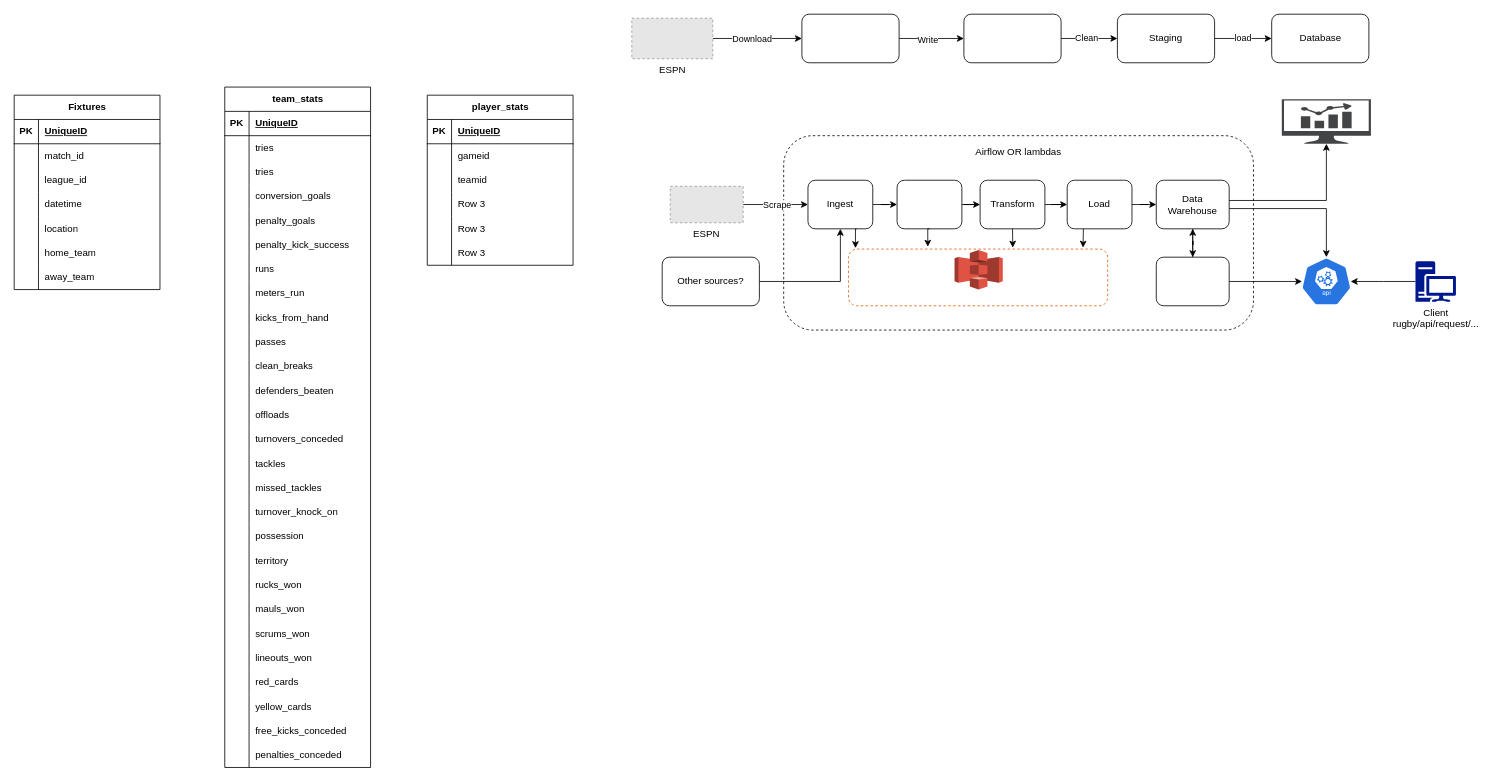
Some shapes in this 1493 by 782 pixel diagram are drawn without their labels. Grey dashed boxes stand in for pictures. Each missing label, with the centre of its shape:
"Dashboard" goes at point (1326, 121).
"Data lake (S3)" goes at point (978, 269).
"Drop" goes at point (850, 38).
"Extract" goes at point (929, 204).
"Host API" goes at point (1326, 281).
"ML Pipeline" goes at point (1192, 281).
"Raw" goes at point (1012, 38).
